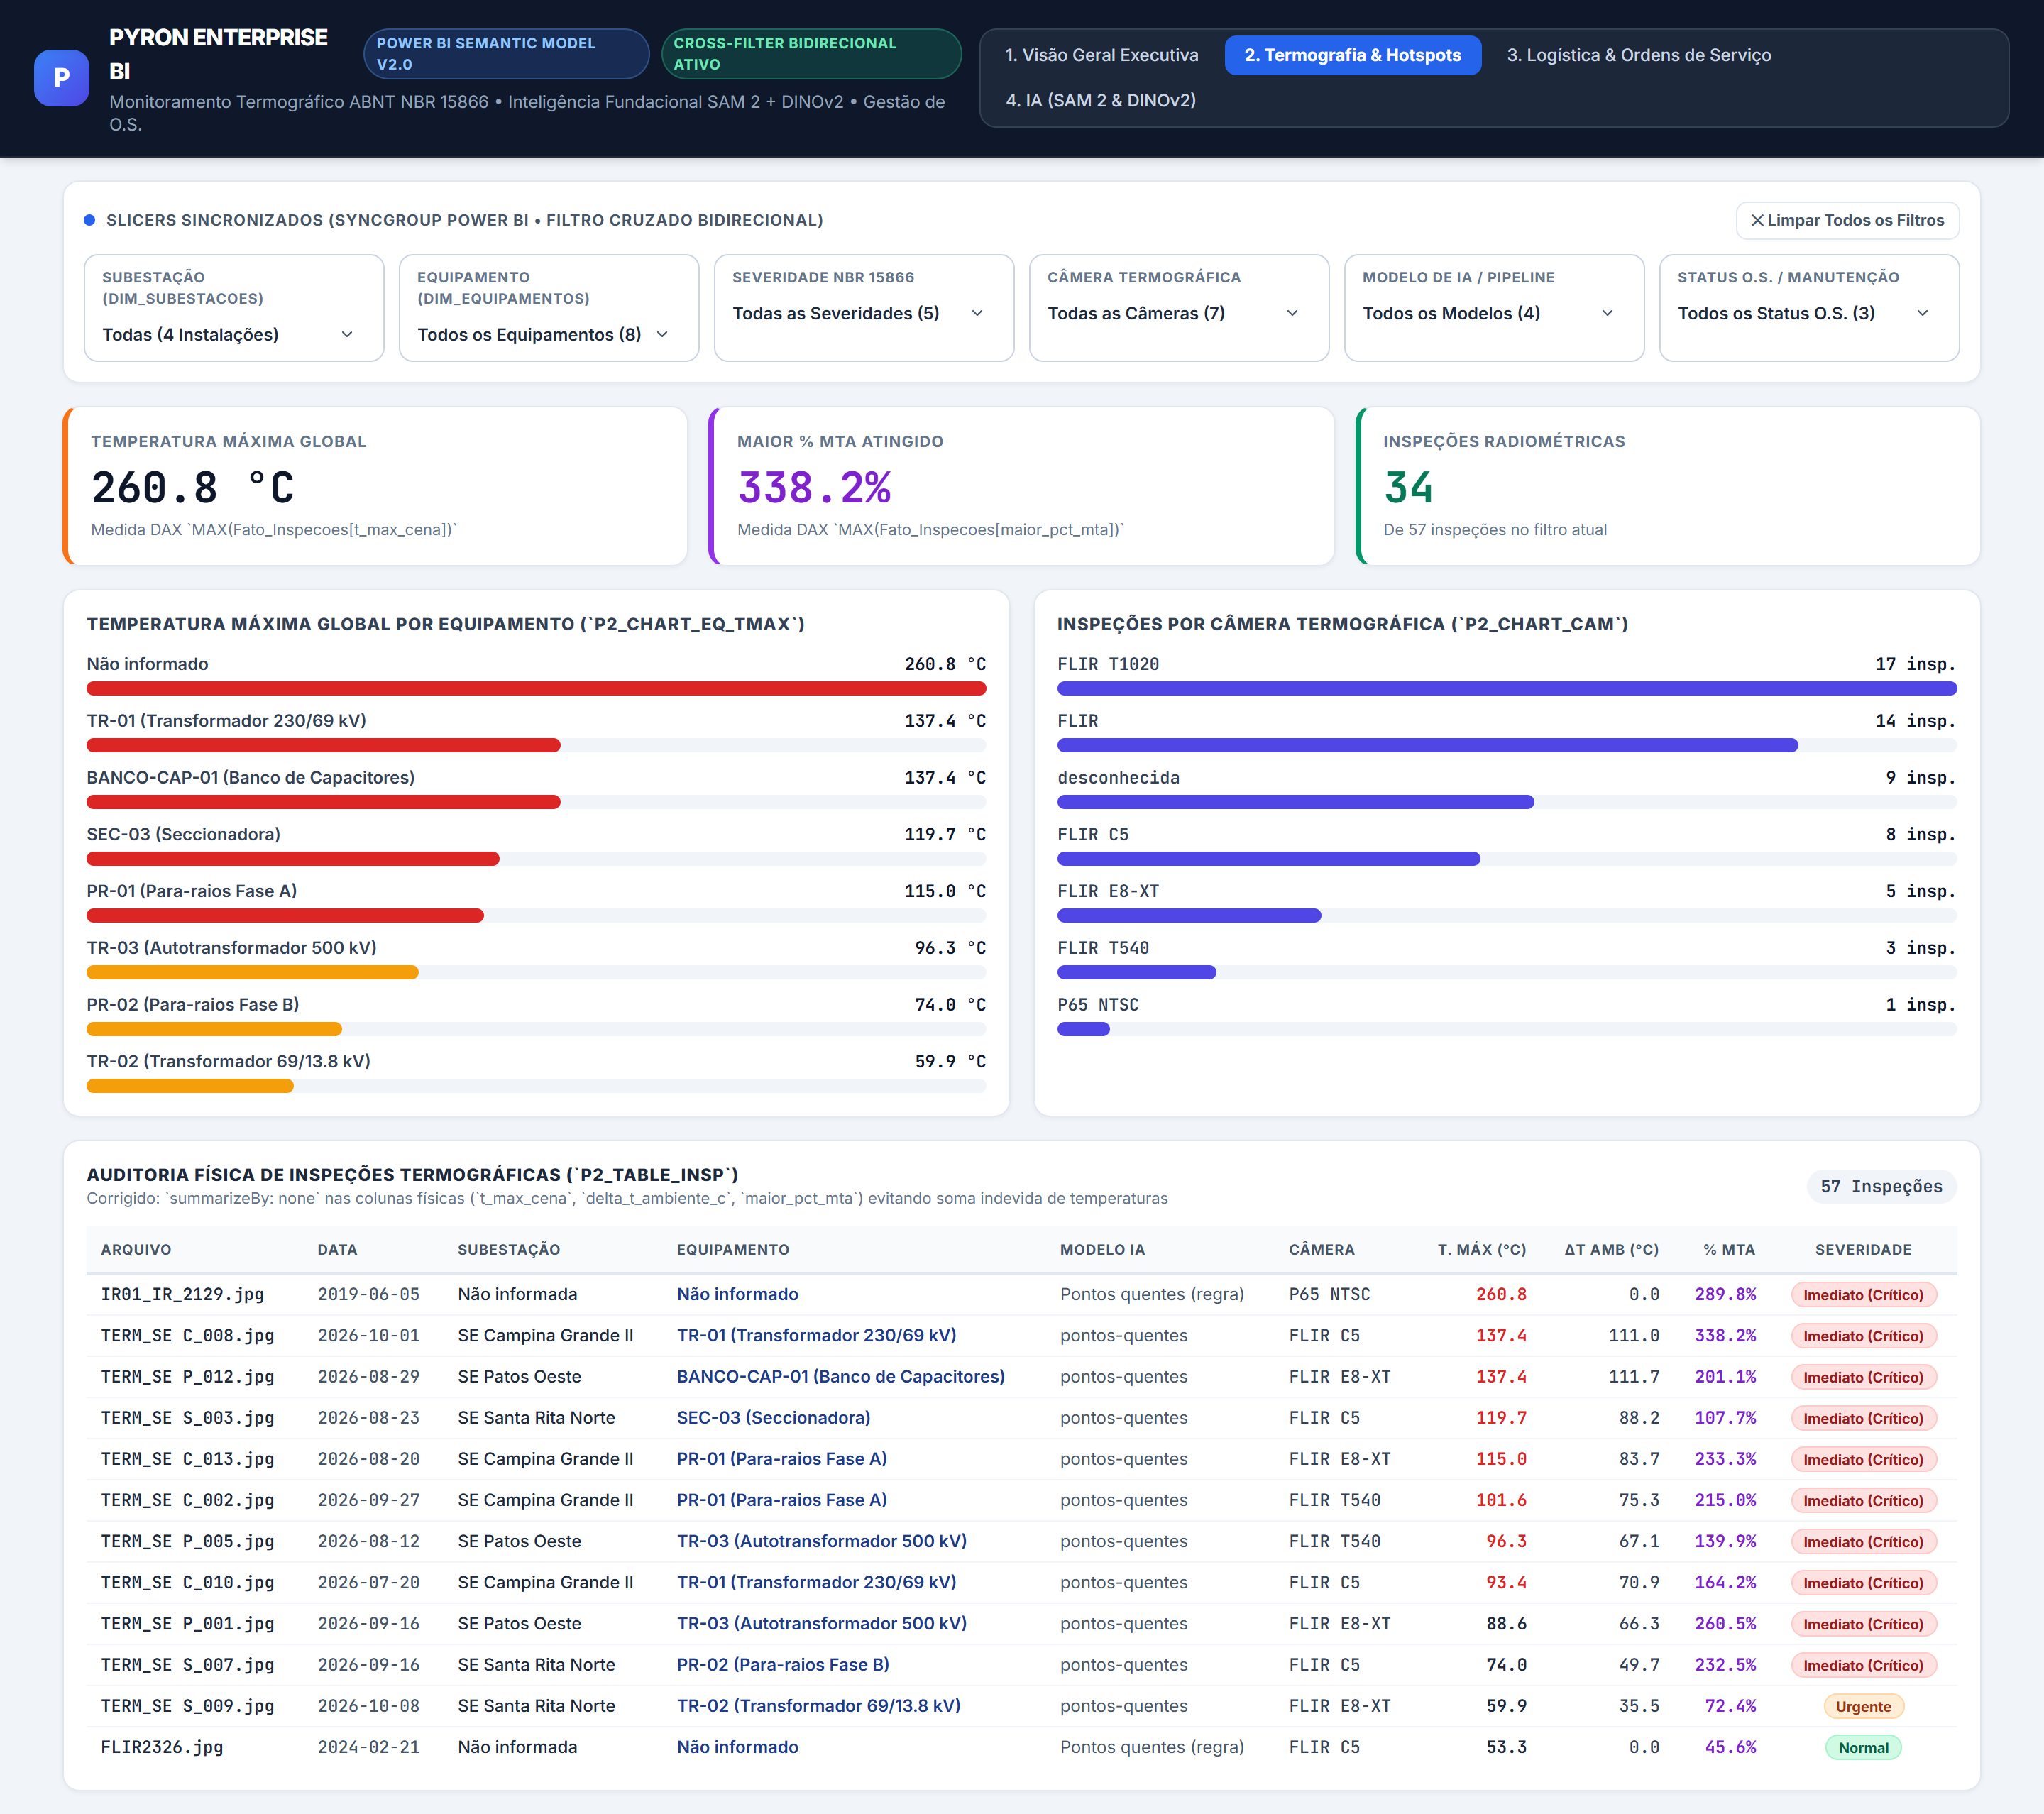

What the dashboard file says about the page in this screenshot:
{"tool":"powerbi","page":{"name":"2. Termografia & Hotspots","canvas":[1280,720],"ordinal":1},"visuals":[{"type":"card","fields":{"Values":["_Medidas.Temperatura Máxima Global"]},"box":[20,15,195,110],"z":100},{"type":"card","fields":{"Values":["_Medidas.Maior % MTA Atingido"]},"box":[225,15,195,110],"z":200},{"type":"card","fields":{"Values":["_Medidas.Inspeções Radiométricas"]},"box":[430,15,195,110],"z":300},{"type":"slicer","fields":{"Values":["Dim_Subestacoes.instalacao"]},"box":[640,15,200,110],"z":350},{"type":"slicer","fields":{"Values":["Fato_Inspecoes.severidade"]},"box":[850,15,195,110],"z":380},{"type":"slicer","fields":{"Values":["Fato_Inspecoes.modelo"]},"box":[1055,15,205,110],"z":400},{"type":"clusteredBarChart","fields":{"Category":["Fato_Inspecoes.equipamento"],"Y":["_Medidas.Temperatura Máxima Global"]},"box":[20,140,610,280],"z":500},{"type":"clusteredColumnChart","fields":{"Category":["Fato_Inspecoes.camera"],"Y":["_Medidas.Total Inspeções"]},"box":[650,140,610,280],"z":600},{"type":"tableEx","fields":{"Values":["Fato_Inspecoes.arquivo_original","Fato_Inspecoes.data_calendario","Fato_Inspecoes.instalacao","Fato_Inspecoes.equipamento","Fato_Inspecoes.severidade","Fato_Inspecoes.t_max_cena","Fato_Inspecoes.delta_t_ambiente_c","Fato_Inspecoes.maior_pct_mta","Fato_Inspecoes.camera"]},"box":[20,435,1240,265],"z":700}]}

Visuals, with their boxes on the page's 1280x720 design canvas (x1, y1, x2, y2). These are canvas units, not pixel positions in the 2044x1814 screenshot, which may show the page scaled, cropped or inside an application window:
card - _Medidas.Temperatura Máxima Global: [20,15,215,125]
card - _Medidas.Maior % MTA Atingido: [225,15,420,125]
card - _Medidas.Inspeções Radiométricas: [430,15,625,125]
slicer - Dim_Subestacoes.instalacao: [640,15,840,125]
slicer - Fato_Inspecoes.severidade: [850,15,1045,125]
slicer - Fato_Inspecoes.modelo: [1055,15,1260,125]
clusteredBarChart - Fato_Inspecoes.equipamento x _Medidas.Temperatura Máxima Global: [20,140,630,420]
clusteredColumnChart - Fato_Inspecoes.camera x _Medidas.Total Inspeções: [650,140,1260,420]
tableEx - Fato_Inspecoes.arquivo_original x Fato_Inspecoes.data_calendario: [20,435,1260,700]
